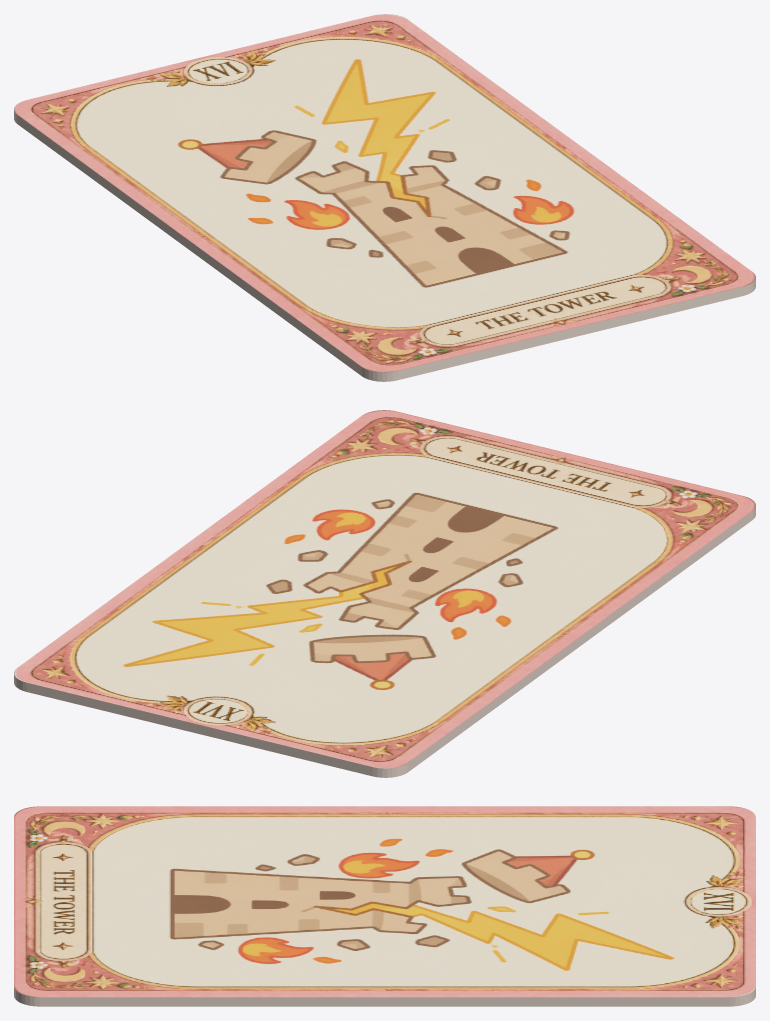
Rendered from tower.fbx.
3 renders of one model, top to bottom at view 1: azimuth 30°, elevation 25°; view 2: azimuth 150°, elevation 25°; view 3: azimuth 270°, elevation 25°, orthographic.
Visible parts, largest first — view 1: tower; view 2: tower; view 3: tower.
Boxes of the visible parts, x1,y1,x2,y2 form: tower: (14,14,755,381); tower: (14,410,755,777); tower: (14,806,755,1006).
Size of the model in its own units: 7 by 0.16 by 11.5.
Materials: 3 (2 with a texture image).
